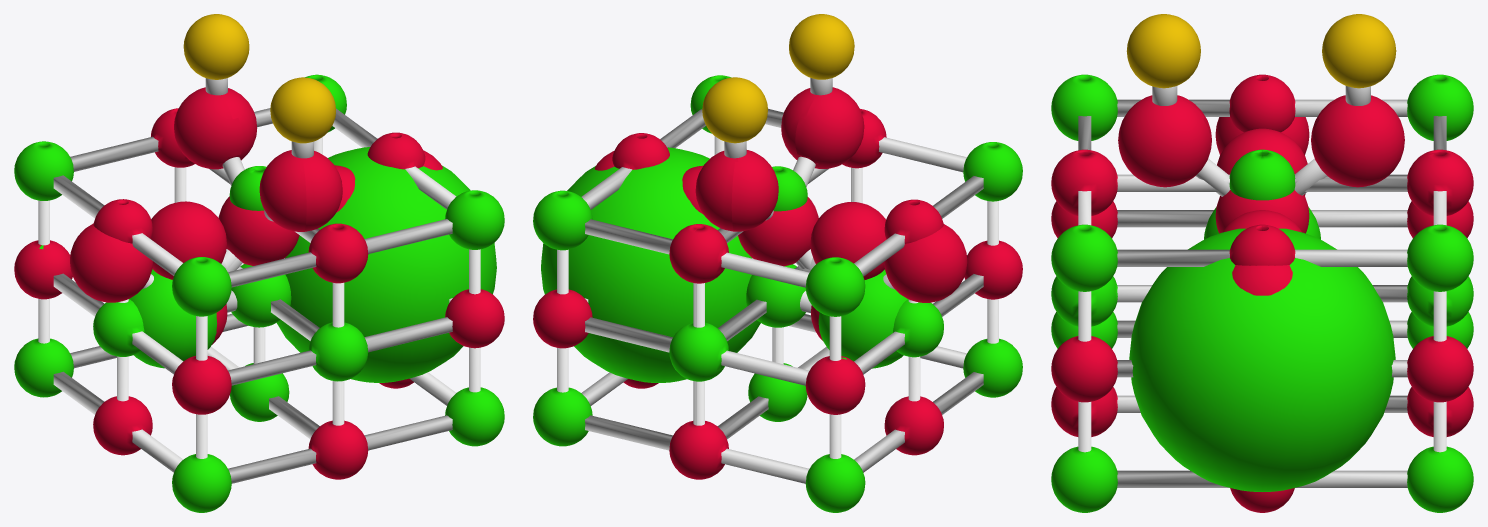
Rendered from chemicals.fbx.
3 views of the same model, side by side, from view 1: azimuth 30°, elevation 25°; view 2: azimuth 150°, elevation 25°; view 3: azimuth 270°, elevation 25° (orthographic). The views are drawn at different scales.
Visible parts, largest first — view 1: nacl, hcl, h2so4, fe2o3, co2, h2; view 2: nacl, hcl, h2so4, fe2o3, co2, h2; view 3: nacl, hcl, h2so4, fe2o3, co2.
Boxes of the visible parts, x1,y1,x2,y2 form: nacl: [14, 74, 504, 512]; hcl: [276, 147, 496, 382]; h2so4: [174, 14, 342, 344]; fe2o3: [70, 150, 442, 302]; co2: [151, 165, 355, 327]; h2: [129, 269, 237, 368]; nacl: [533, 75, 1022, 512]; hcl: [541, 147, 760, 382]; h2so4: [695, 14, 864, 340]; fe2o3: [594, 151, 967, 302]; co2: [682, 165, 886, 327]; h2: [800, 269, 907, 368]; nacl: [1051, 74, 1473, 512]; hcl: [1129, 228, 1395, 491]; h2so4: [1118, 14, 1404, 196]; fe2o3: [1215, 117, 1309, 295]; co2: [1217, 128, 1307, 232].
Bounding box in the file's own units: 894 × 780 × 715.
